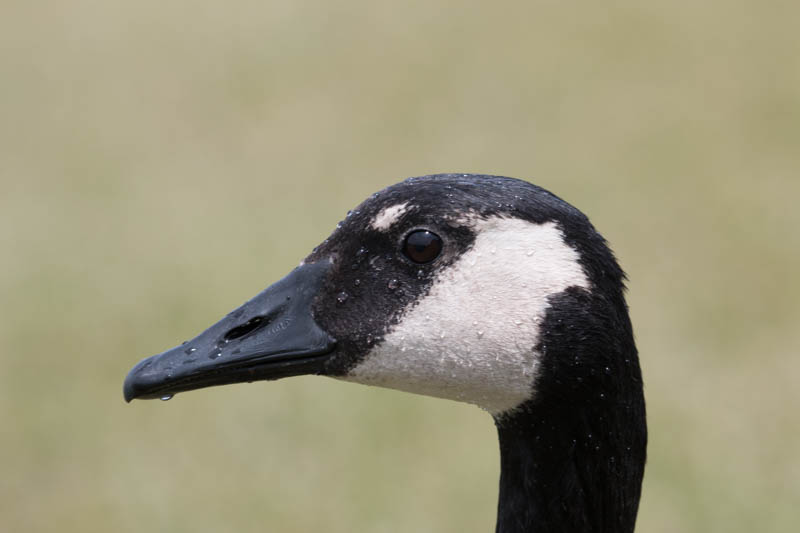goose-head: (124, 173, 647, 420)
